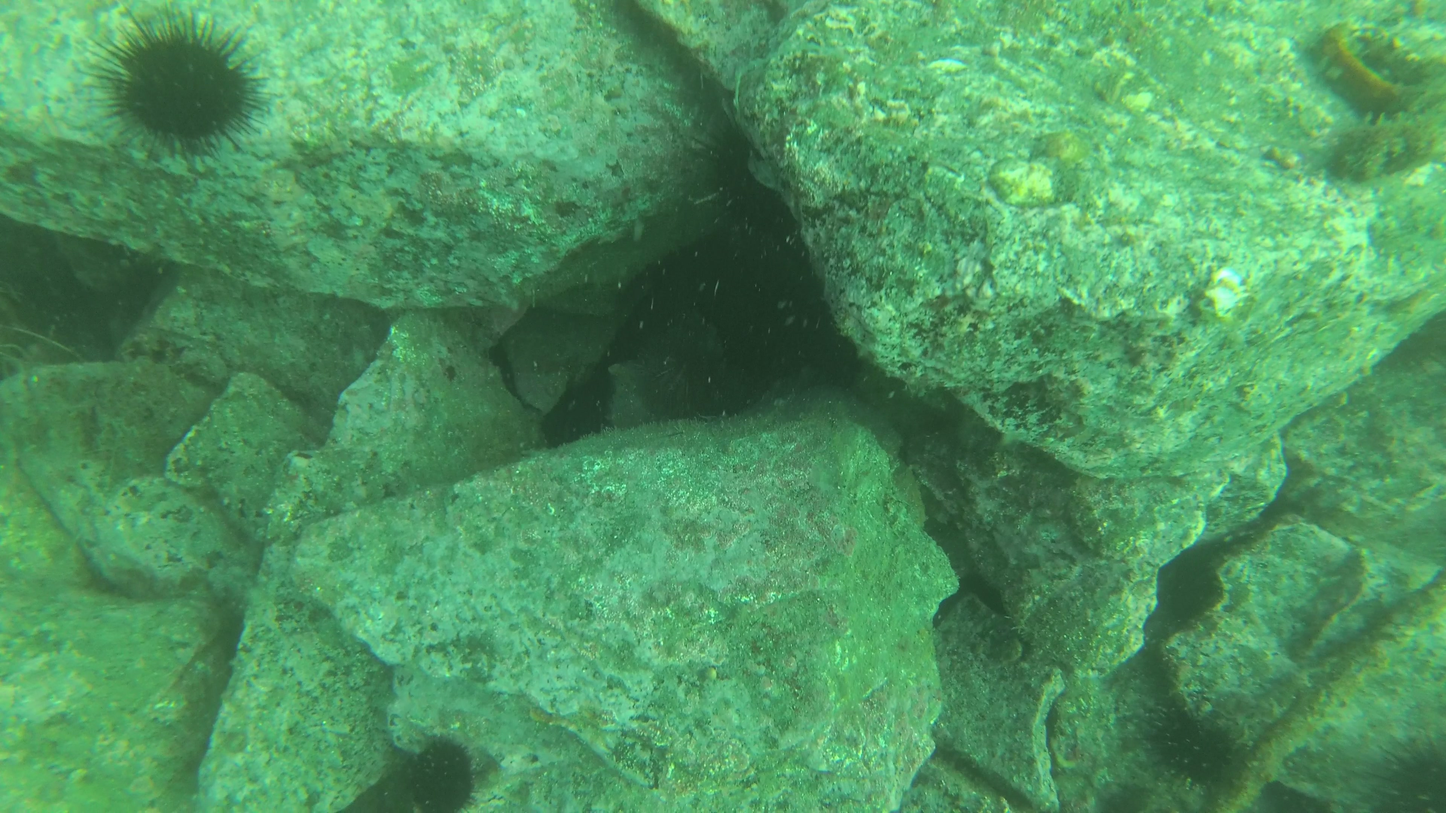starfish: (93, 20, 255, 157), (407, 737, 476, 810)
